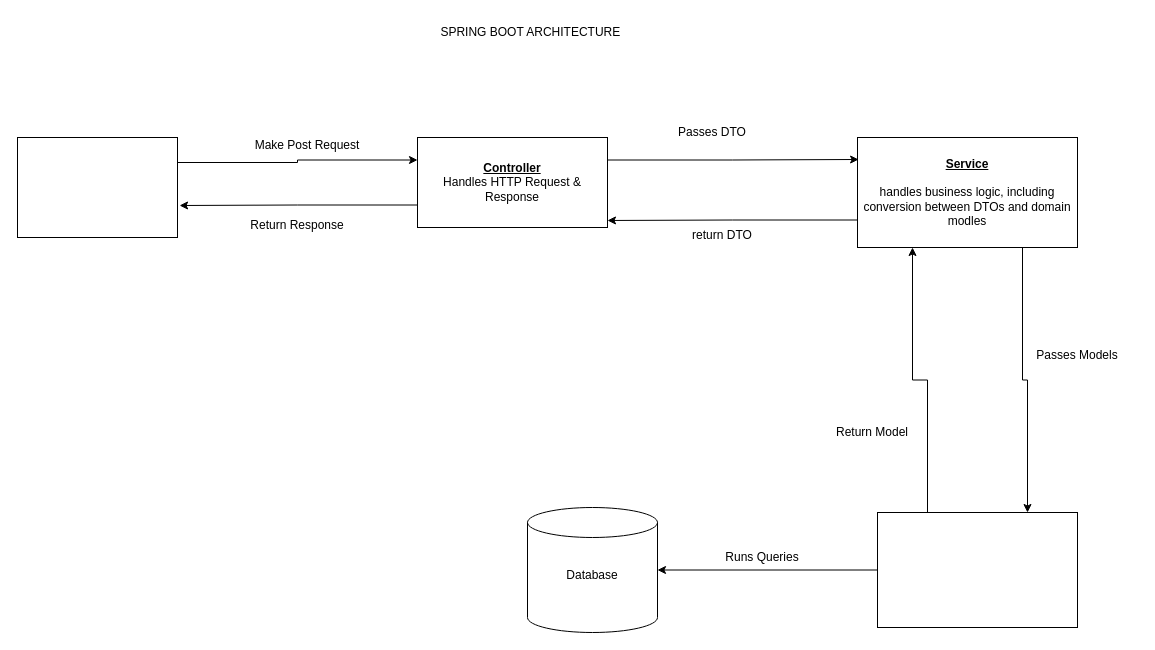
The diagram is 1155 pixels wide and 650 high, and some of its shapes have lost their labels. The shapes that lost their labels are listed below. From the top down, each one's centre as x and y in pixels, then its label:
(x=97, y=187): Frontend (Client)
(x=977, y=570): Repository Handles interaction with the database
